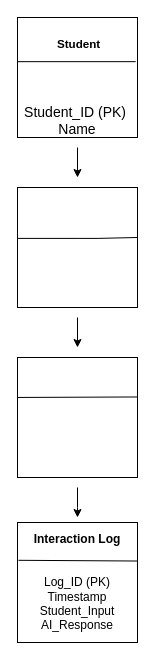
Some shapes in this 157 by 660 pixel diagram are drawn without their labels. The shapes that lost their labels are listed below. From the top down, each one's centre as x and y in pixels, then its label:
(x=77, y=247): user input Input_ID (PK) Student_ID (FK) Input_Text Timestamp
(x=77, y=417): AI Response Response_ID (PK) Input_ID (FK) Emotion Response_Text
